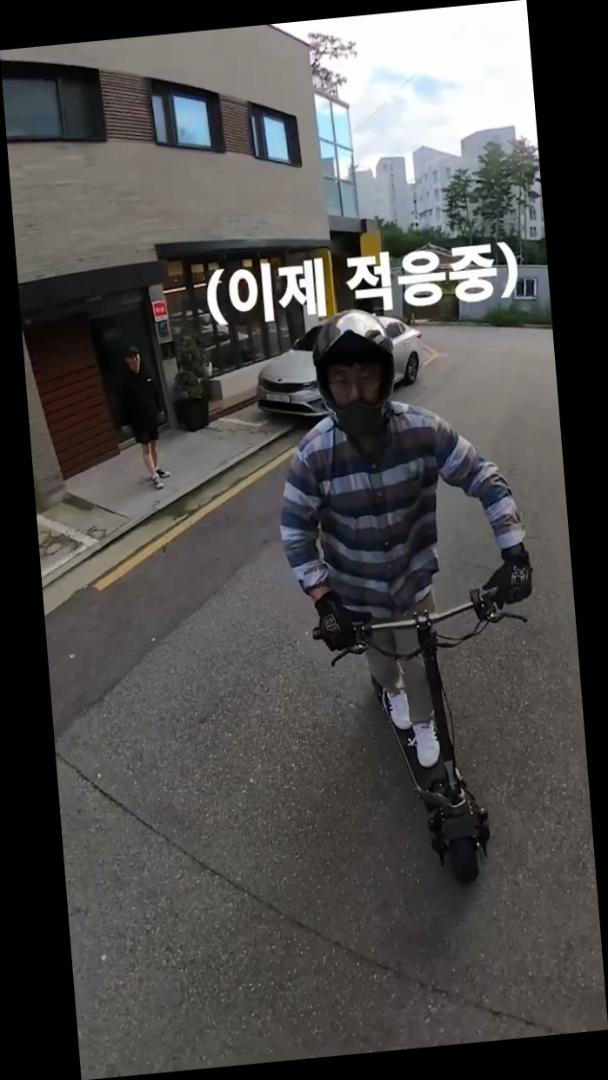helmet: (259, 293, 562, 904)
